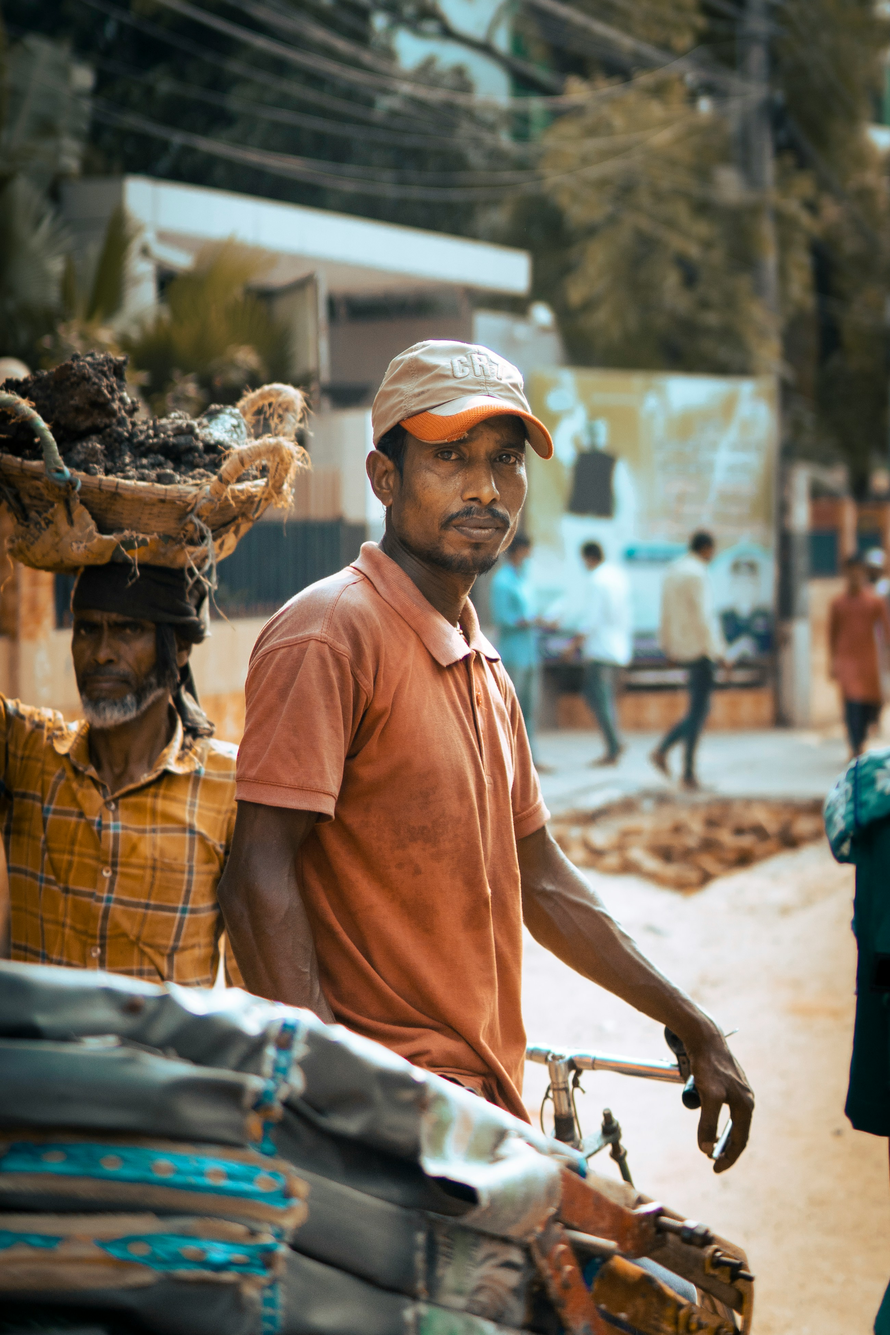No_Helmet: (357, 333, 565, 577)
